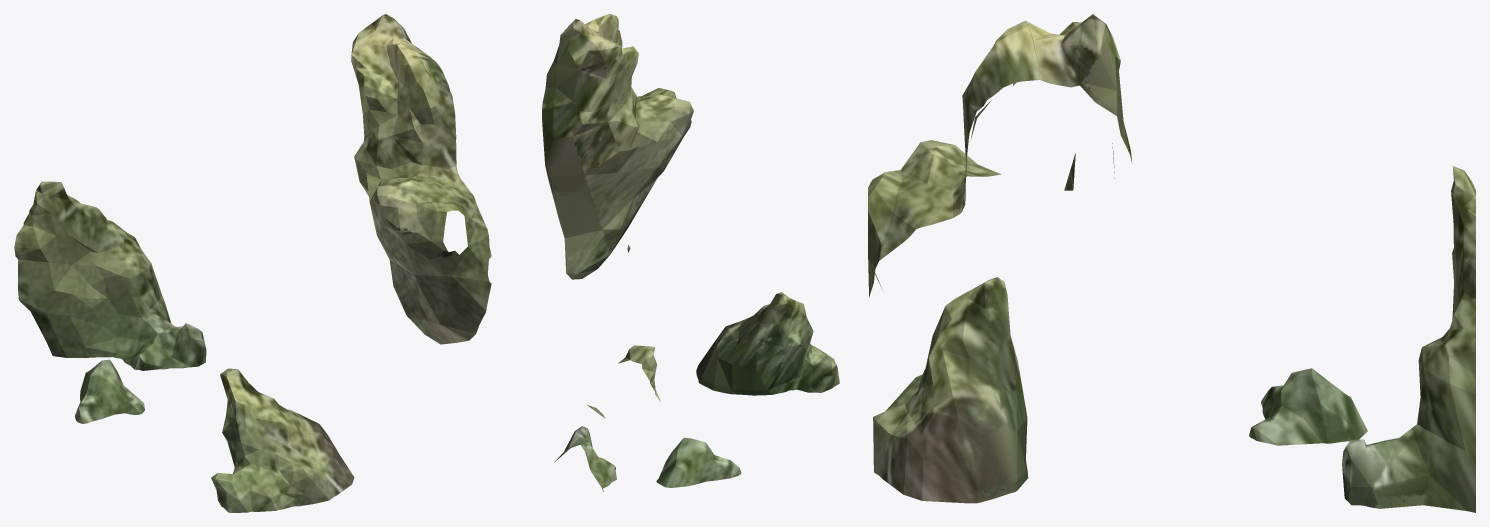
The picture shows the model from 3 angles, left to right: view 1: azimuth 30°, elevation 25°; view 2: azimuth 150°, elevation 25°; view 3: azimuth 270°, elevation 25°; orthographic projection. The views are drawn at different scales.
Bounding box in the file's own units: 4.18 × 5.87 × 5.9.
Materials: 2 (2 with a texture image).
